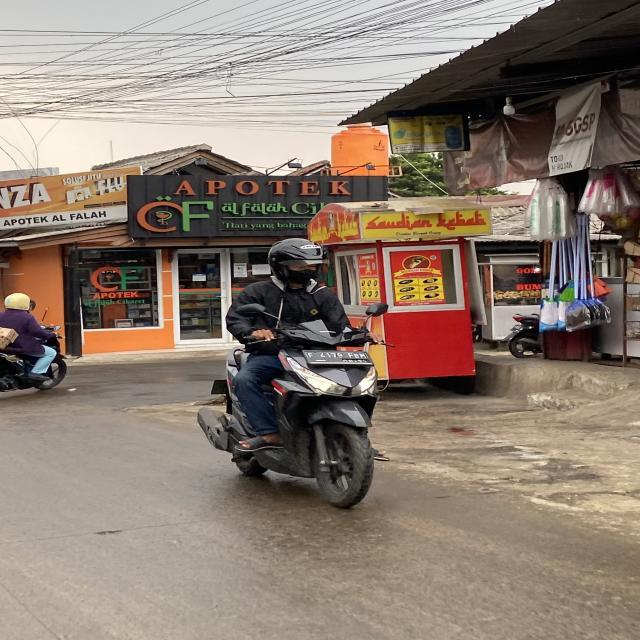Helmet: (268, 238, 324, 283), (4, 293, 30, 310)
Number Plate: (303, 350, 371, 364)
Rearview Mirror: (237, 303, 265, 314), (365, 303, 388, 316)
